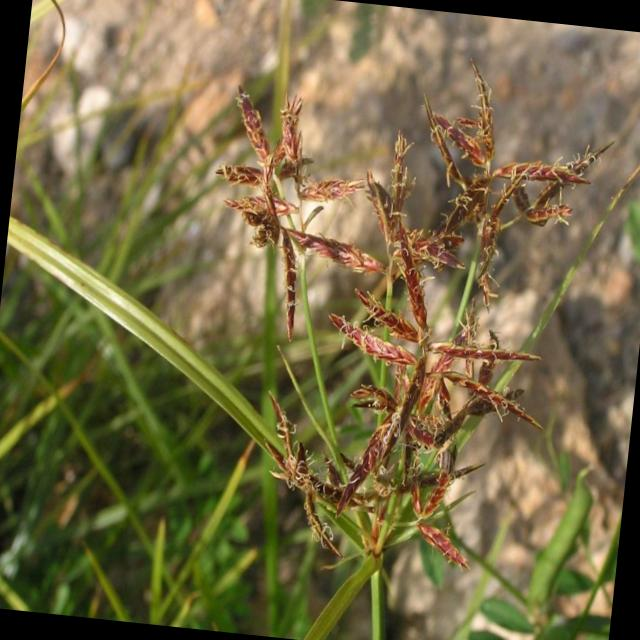cyperus: (170, 34, 620, 588)
